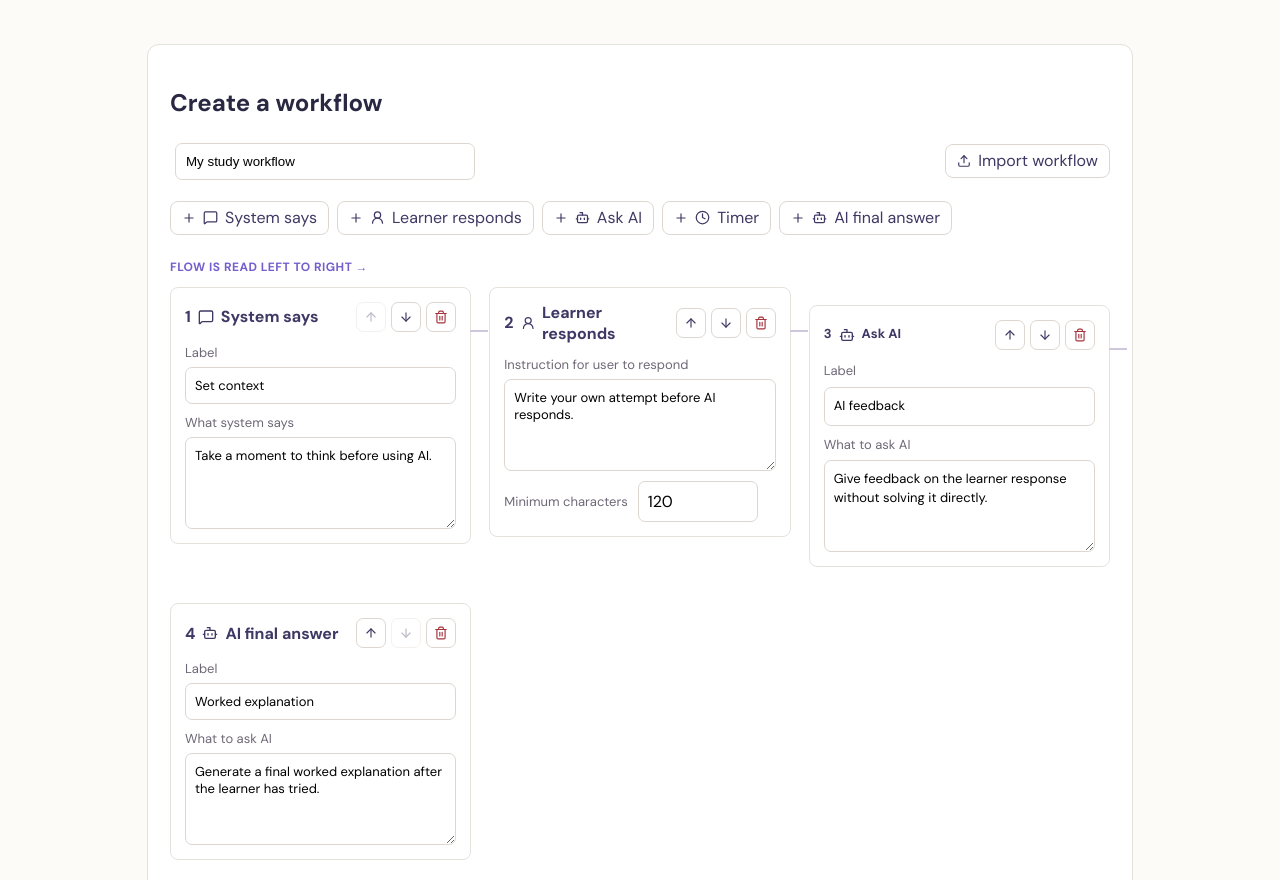
it: WorkflowBuilder › shows a validation message when the name is cleared
Clear the field named "workflow name" at (325, 161), box top-left (175, 143), bottom-right (475, 180)
(page scrolled)
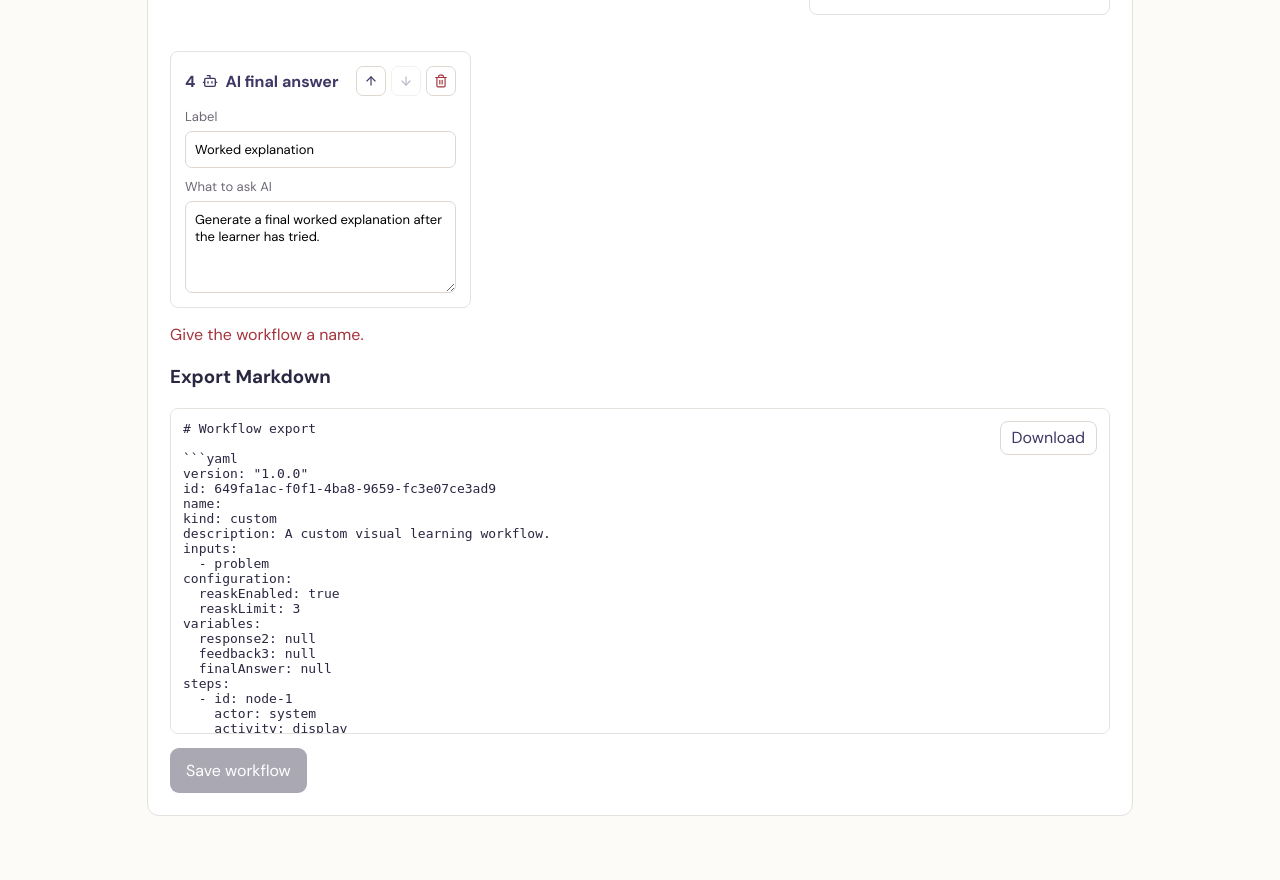
Expected: the text "Give the workflow a name." is shown, top-left (170, 324), bottom-right (364, 345)
Expected: the button "Save workflow" is disabled, top-left (170, 748), bottom-right (307, 793)
